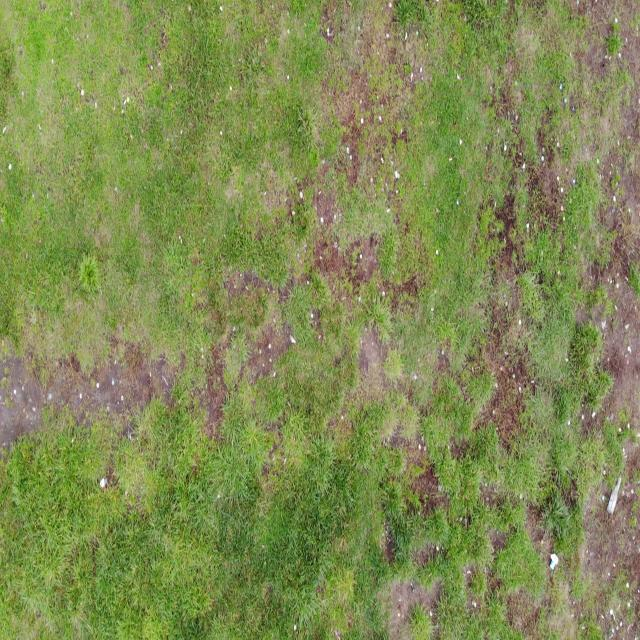rubbish: (607, 474, 621, 515), (548, 553, 559, 572)
